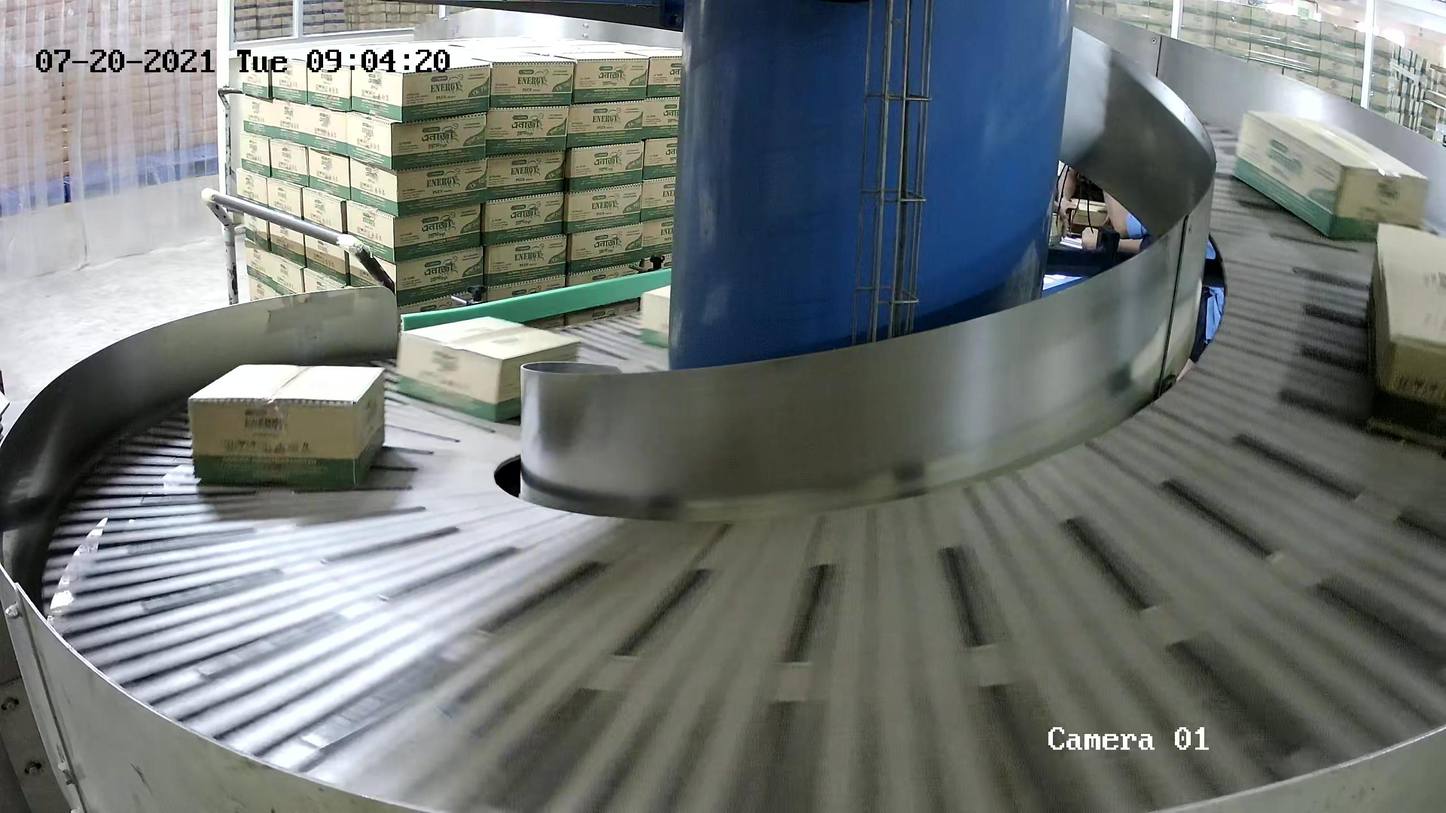Box: (1231, 108, 1430, 238), (187, 363, 385, 490), (396, 315, 581, 423), (1367, 221, 1446, 449), (640, 284, 671, 348)
